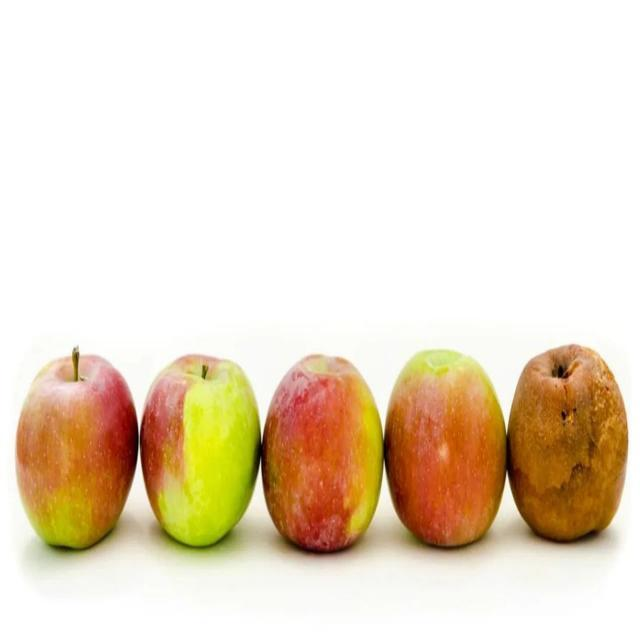Fresh Apple: (380, 352, 500, 555), (13, 357, 137, 548), (500, 355, 618, 538), (263, 358, 377, 540), (144, 357, 254, 545)
